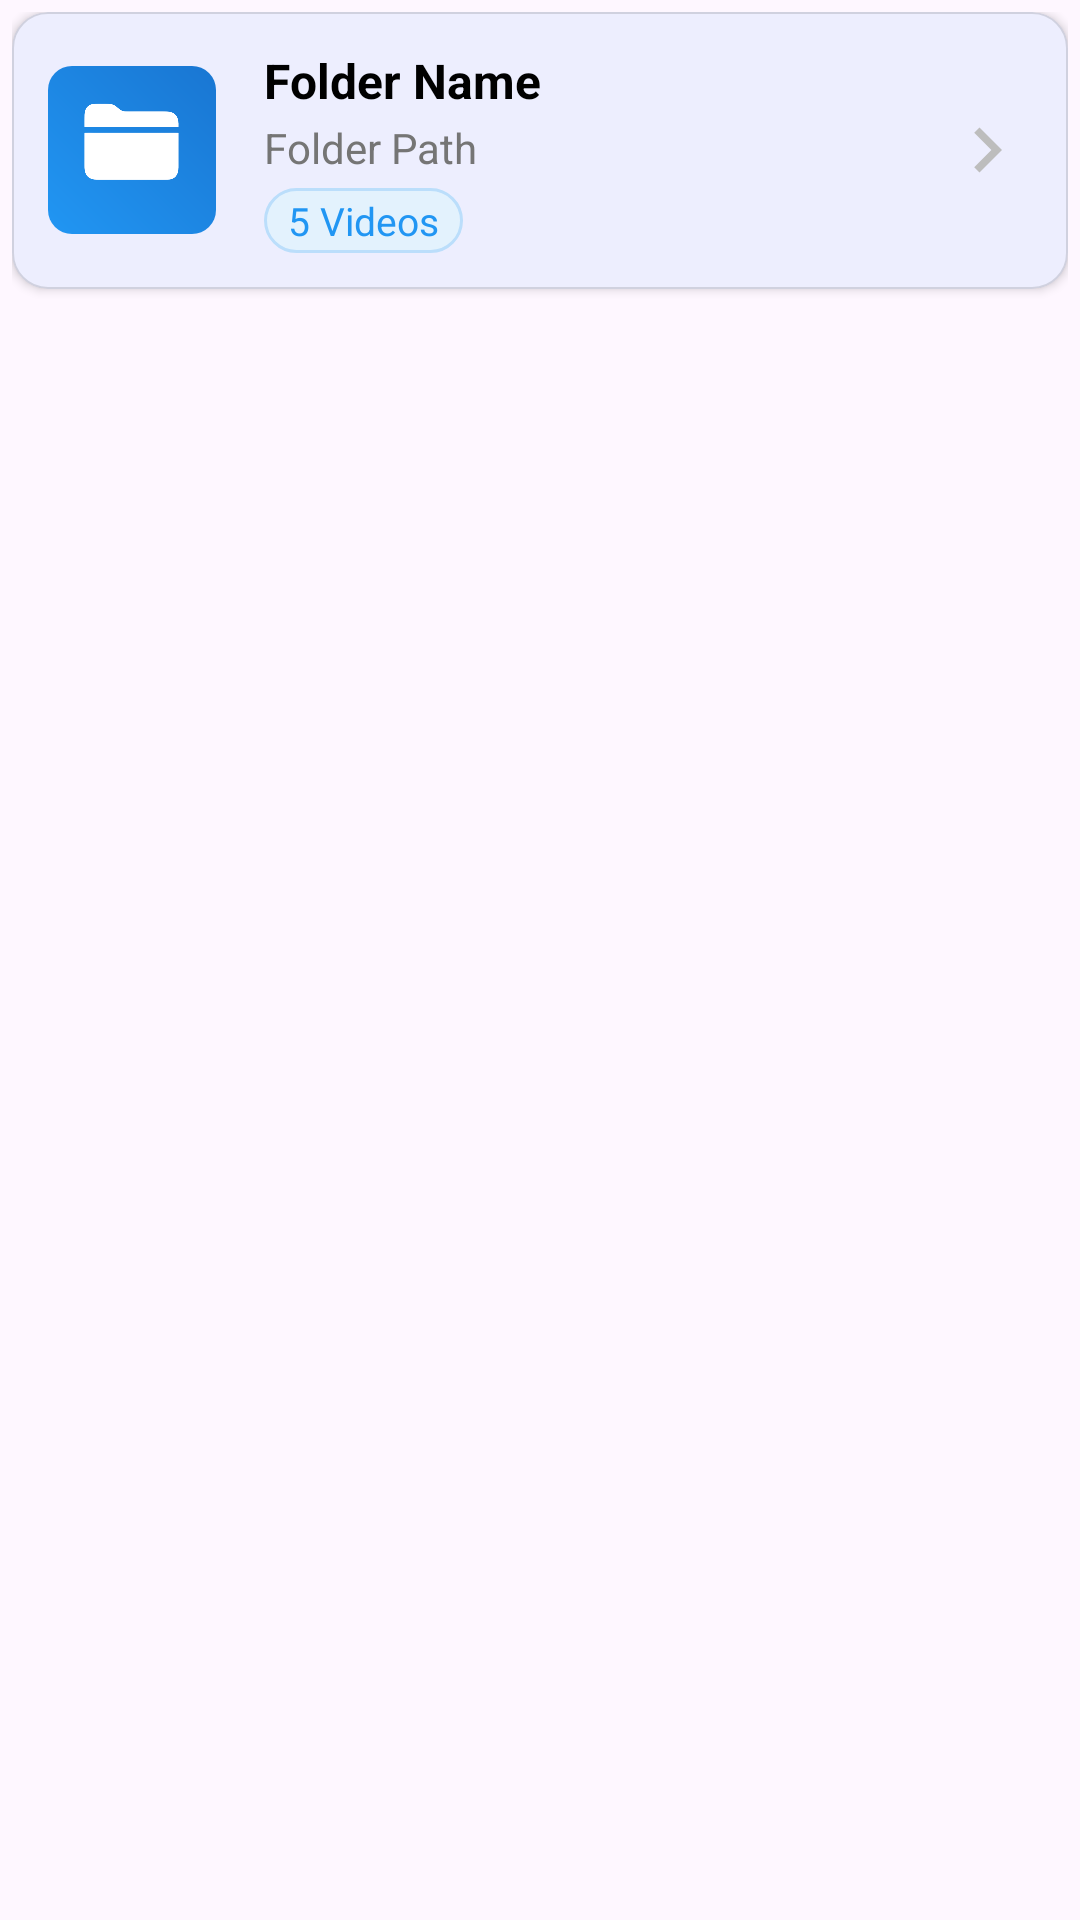

Icon click points for this 1080 × 1920 phone screenshot, format point (x, y):
chevron right: point (988, 150)
